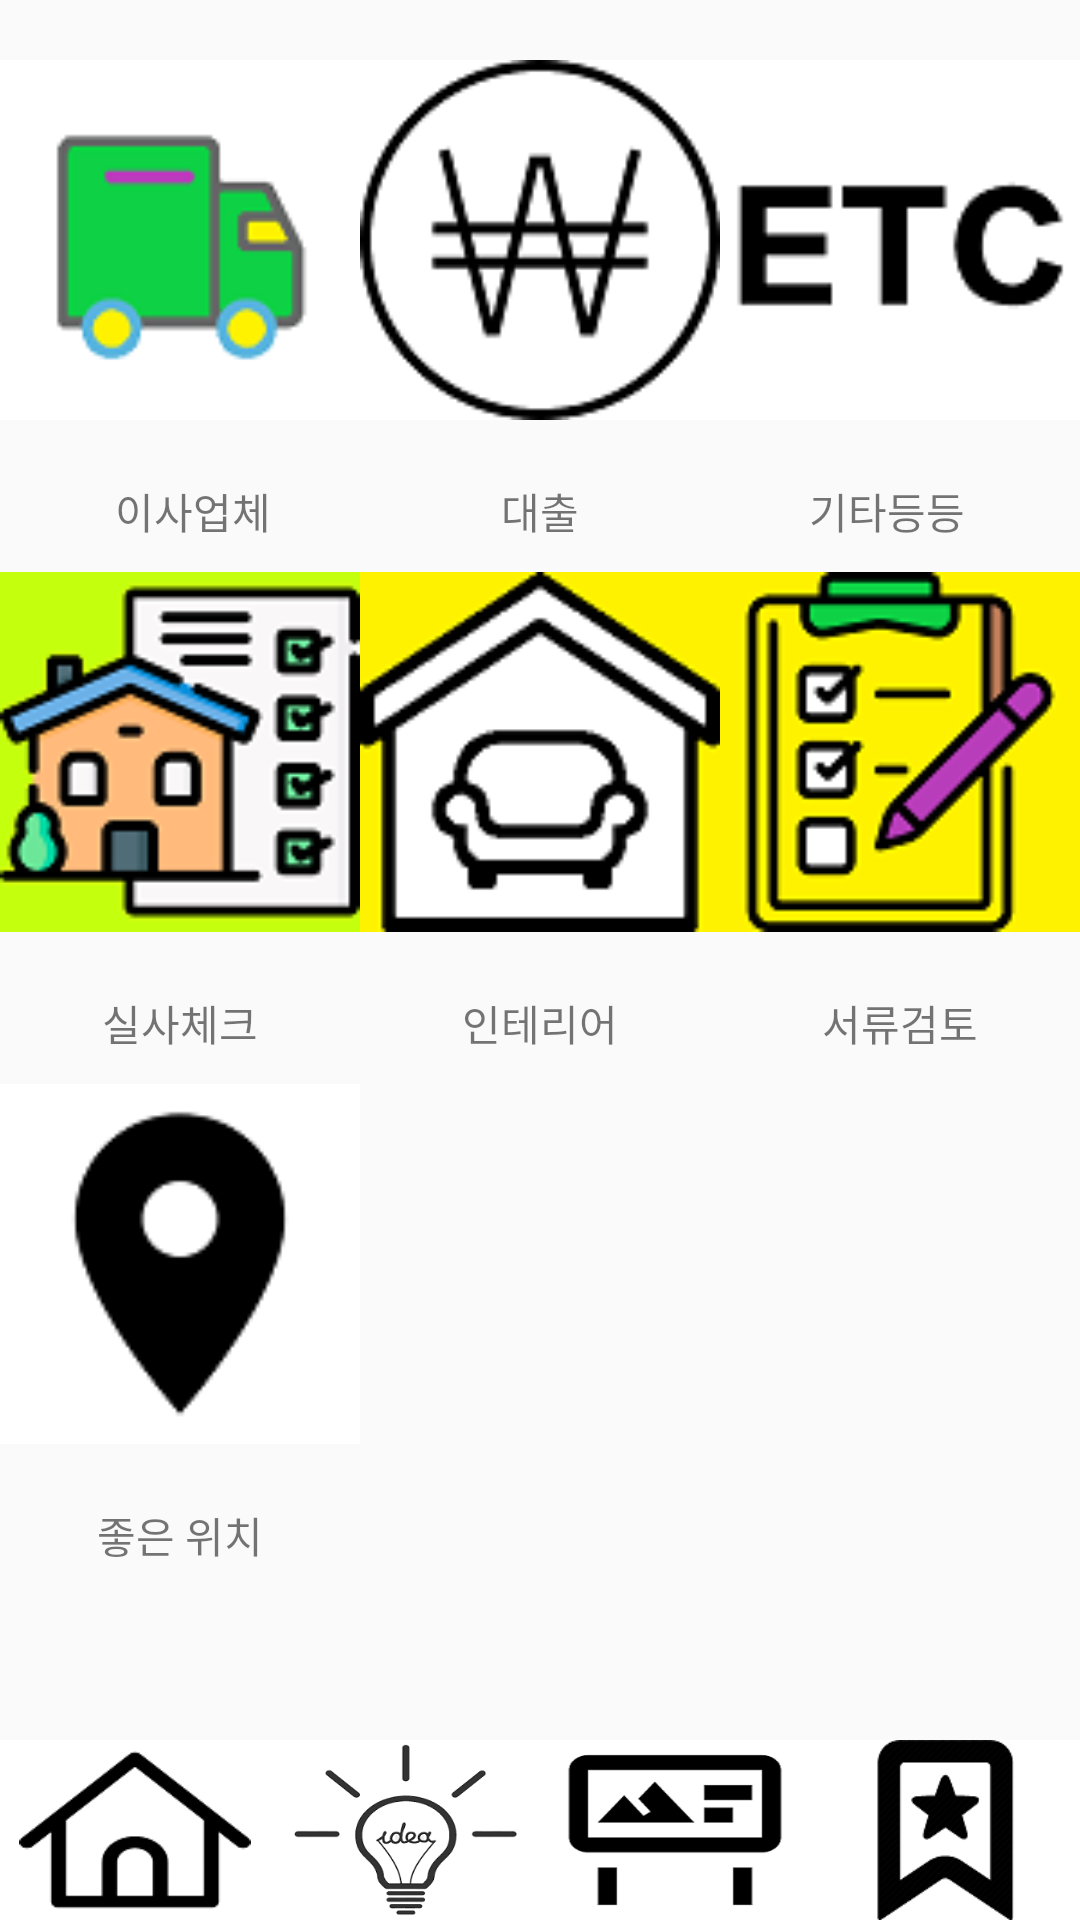

Screen size 1080px×1920px. Icon name, then its center in pixels as (x=x, y=y):
bottom bookmark: (x=945, y=1830)
bottom goodtip: (x=405, y=1830)
bottom hometap: (x=135, y=1830)
economy: (x=540, y=240)
express: (x=181, y=247)
innercheck: (x=900, y=752)
location: (x=180, y=1263)
outercheck: (x=180, y=752)
